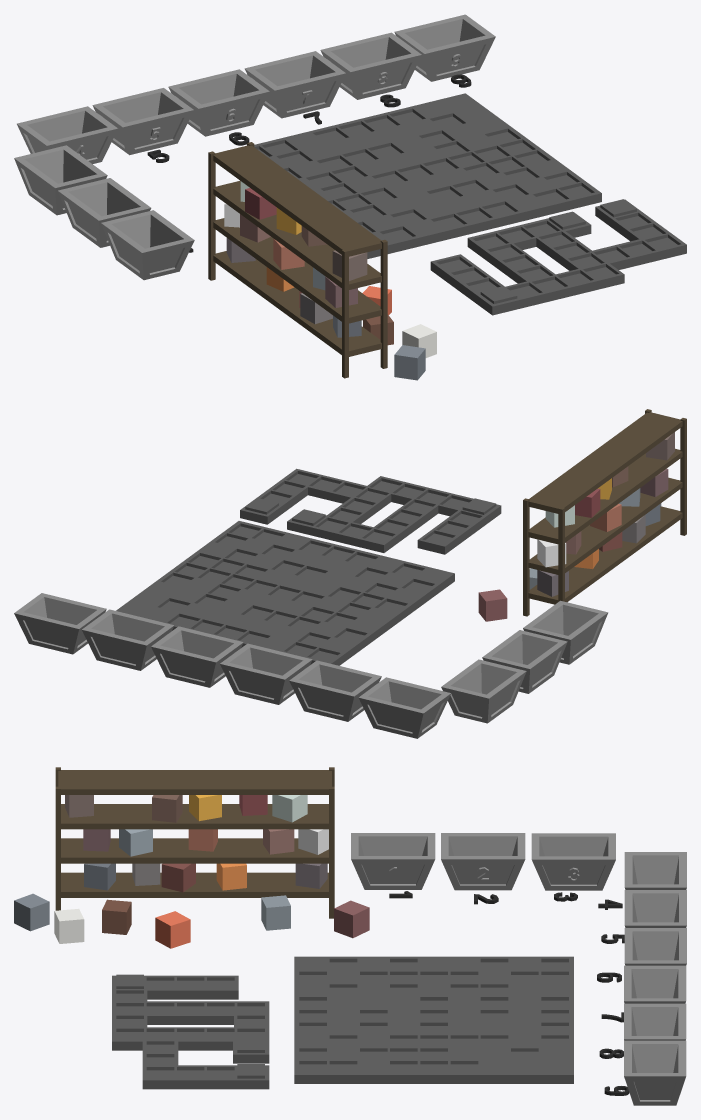
File: assets.fbx
3 views of the same model, one above another, from view 1: azimuth 30°, elevation 25°; view 2: azimuth 150°, elevation 25°; view 3: azimuth 270°, elevation 25° (orthographic). The views are drawn at different scales.
Parts seen in each view (by area): view 1: sudoku_board1, shelf, blendoku_board1, cart1, cart7, cart8, cart5, cart6, cart9, cart4, cart3, cart2 (+6 smaller); view 2: sudoku_board1, shelf, blendoku_board1, cart4, cart5, cart8, cart6, cart7, cart3, cart9, cart2, cart1 (+5 smaller); view 3: sudoku_board1, shelf, blendoku_board1, cart3, cart2, cart1, cart9, cart7, cart4, cart5, cart6, cart8 (+21 smaller).
Boxes of the visible parts, left/top/right/bottom form: sudoku_board1: left=254, top=93, right=601, bottom=258; shelf: left=208, top=142, right=387, bottom=378; blendoku_board1: left=430, top=199, right=686, bottom=315; cart1: left=101, top=210, right=194, bottom=280; cart7: left=244, top=51, right=345, bottom=118; cart8: left=320, top=32, right=421, bottom=99; cart5: left=92, top=88, right=193, bottom=155; cart6: left=168, top=69, right=269, bottom=136; cart9: left=394, top=14, right=495, bottom=81; cart4: left=17, top=106, right=117, bottom=164; cart3: left=14, top=145, right=107, bottom=215; cart2: left=58, top=178, right=151, bottom=247; sudoku_board1: left=116, top=521, right=454, bottom=665; shelf: left=523, top=409, right=686, bottom=616; blendoku_board1: left=240, top=468, right=501, bottom=554; cart4: left=358, top=677, right=451, bottom=738; cart5: left=289, top=660, right=381, bottom=721; cart8: left=82, top=609, right=174, bottom=670; cart6: left=220, top=643, right=312, bottom=704; cart7: left=151, top=626, right=243, bottom=687; cart3: left=441, top=659, right=526, bottom=723; cart9: left=14, top=593, right=106, bottom=654; cart2: left=482, top=630, right=567, bottom=693; cart1: left=523, top=600, right=608, bottom=664; sudoku_board1: left=294, top=956, right=573, bottom=1083; shelf: left=55, top=767, right=334, bottom=918; blendoku_board1: left=112, top=974, right=269, bottom=1089; cart3: left=531, top=833, right=615, bottom=890; cart2: left=441, top=833, right=525, bottom=890; cart1: left=351, top=833, right=435, bottom=889; cart9: left=624, top=1040, right=686, bottom=1105; cart7: left=624, top=965, right=686, bottom=1003; cart4: left=624, top=852, right=686, bottom=889; cart5: left=624, top=890, right=686, bottom=927; cart6: left=624, top=928, right=686, bottom=965; cart8: left=624, top=1003, right=686, bottom=1040.
Bounding box in the file's own units: 22.88 × 5.68 × 26.72.
